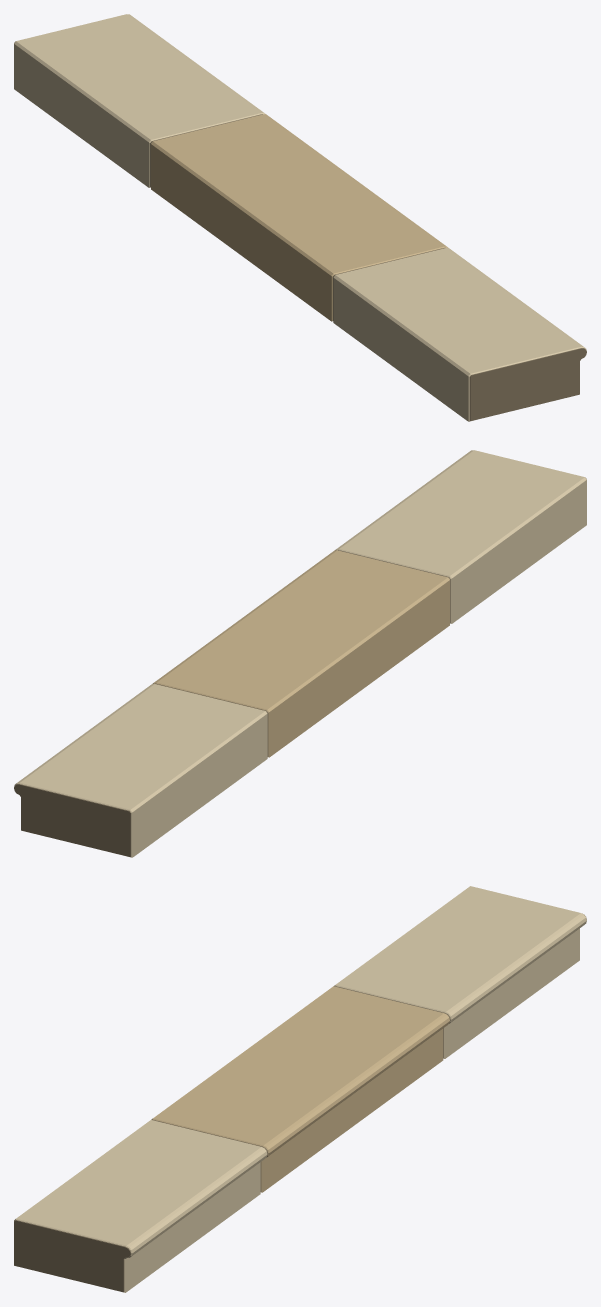
3 views of the same model, one above another, from view 1: azimuth 30°, elevation 25°; view 2: azimuth 150°, elevation 25°; view 3: azimuth 330°, elevation 25° (orthographic).
Visible parts, largest first — view 1: Mesh_Step_Limestone, Mesh_Step_Travertine, Mesh_Step_Joints; view 2: Mesh_Step_Limestone, Mesh_Step_Travertine, Mesh_Step_Joints; view 3: Mesh_Step_Limestone, Mesh_Step_Travertine, Mesh_Step_Joints.
Boxes of the visible parts, box(x1,y1,x2,y2) form: Mesh_Step_Limestone: box(14, 14, 586, 421); Mesh_Step_Travertine: box(151, 114, 448, 321); Mesh_Step_Joints: box(14, 41, 586, 421); Mesh_Step_Limestone: box(14, 450, 586, 857); Mesh_Step_Travertine: box(152, 550, 449, 757); Mesh_Step_Joints: box(14, 477, 586, 857); Mesh_Step_Limestone: box(14, 886, 586, 1292); Mesh_Step_Travertine: box(151, 986, 449, 1192); Mesh_Step_Joints: box(14, 913, 586, 1292).
Size of the model in its own units: 0.6 by 0.23 by 4.
